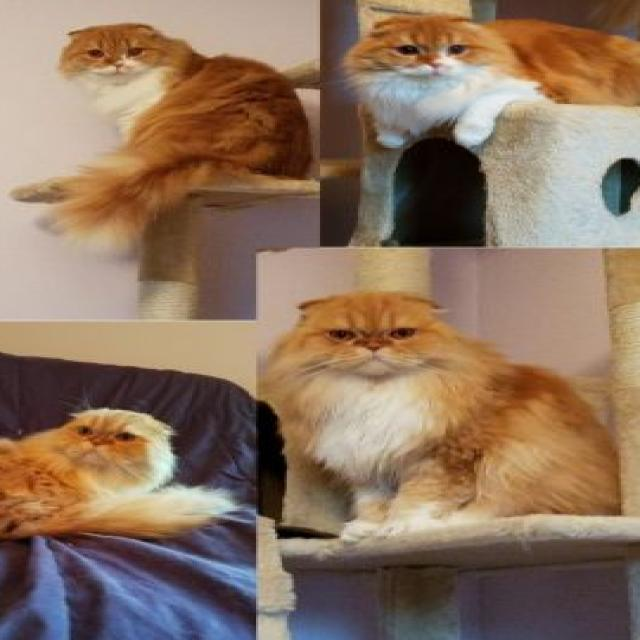Scottish Fold: (264, 287, 625, 545), (0, 16, 311, 246), (336, 12, 640, 148), (0, 398, 239, 546)
